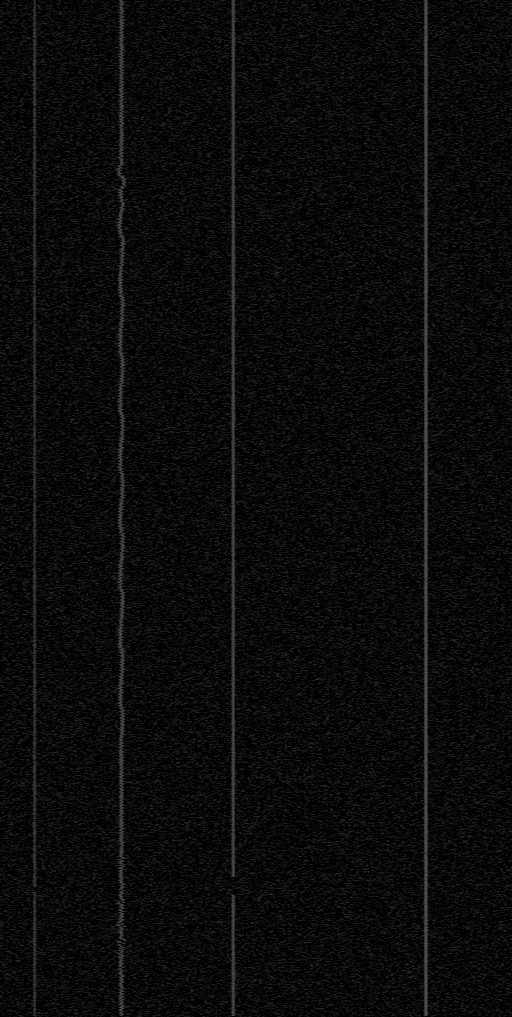wv_cw: (423, 0, 429, 1016), (230, 0, 236, 877), (32, 0, 37, 887), (230, 895, 236, 1016), (32, 892, 37, 1016)
wv_usb: (424, 459, 428, 553), (424, 868, 428, 941), (424, 780, 428, 838), (424, 942, 428, 995), (424, 398, 428, 450), (424, 700, 428, 733), (424, 285, 428, 318), (424, 634, 428, 665), (424, 840, 428, 867), (424, 176, 428, 203), (424, 52, 428, 78), (424, 12, 428, 32), (424, 600, 428, 619), (424, 363, 428, 382), (424, 343, 428, 362), (424, 127, 428, 146), (424, 750, 428, 767), (424, 204, 428, 220), (424, 569, 428, 584), (424, 33, 428, 48), (424, 585, 428, 599), (424, 554, 428, 568), (424, 666, 428, 678), (424, 679, 428, 690), (424, 768, 428, 778), (424, 385, 428, 395), (424, 620, 428, 629), (424, 319, 428, 328), (424, 147, 428, 156), (424, 332, 428, 340), (424, 271, 428, 279), (424, 240, 428, 248), (424, 222, 428, 230), (424, 167, 428, 175), (425, 91, 428, 101), (424, 738, 428, 745), (424, 451, 428, 458), (424, 231, 428, 238), (424, 117, 428, 124), (424, 160, 428, 166), (424, 265, 428, 270), (424, 79, 428, 84), (424, 250, 428, 254), (424, 1012, 428, 1016), (424, 1003, 428, 1006), (425, 746, 428, 749), (425, 694, 428, 697), (425, 630, 428, 633), (425, 111, 428, 114), (425, 996, 428, 999)
wv_wbfm: (115, 0, 128, 1016)
